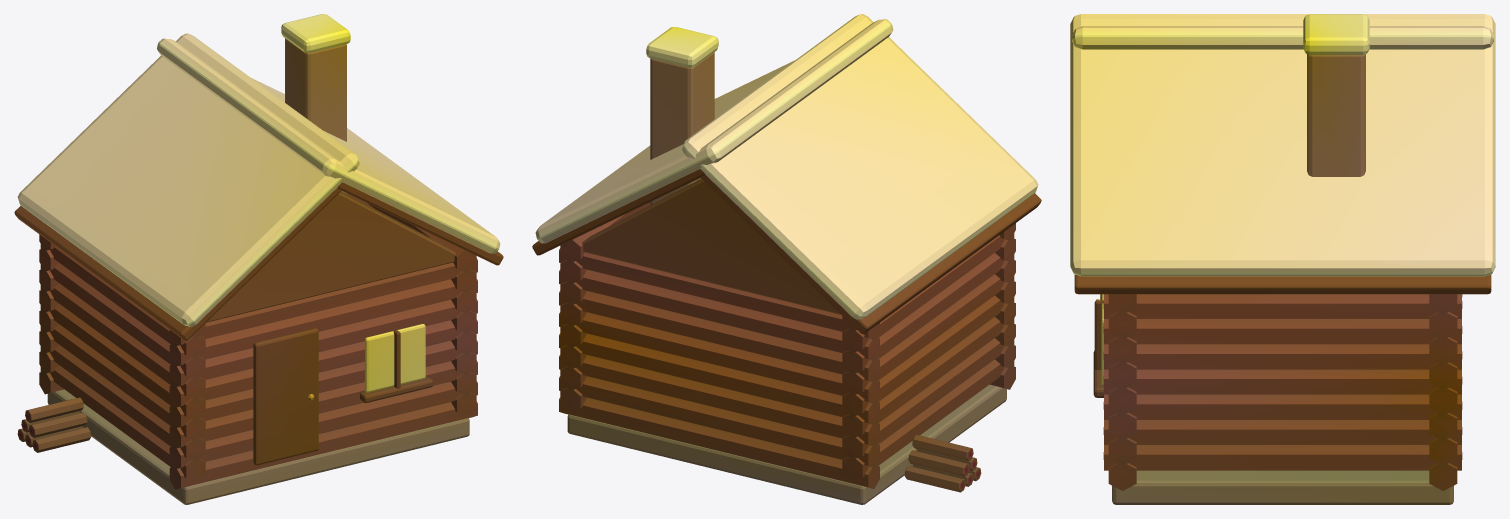
File: Cabin_01.glb
3 views of the same model, side by side, from view 1: azimuth 30°, elevation 25°; view 2: azimuth 150°, elevation 25°; view 3: azimuth 270°, elevation 25° (orthographic). The views are drawn at different scales.
Parts seen in each view (by area): view 1: Cabin_01; view 2: Cabin_01; view 3: Cabin_01.
Boxes of the visible parts, x1=… form: Cabin_01: x1=14, y1=14, x2=503, y2=504; Cabin_01: x1=532, y1=14, x2=1041, y2=504; Cabin_01: x1=1070, y1=14, x2=1495, y2=504.
Bounding box in the file's own units: 4.84 × 4.56 × 3.98.
